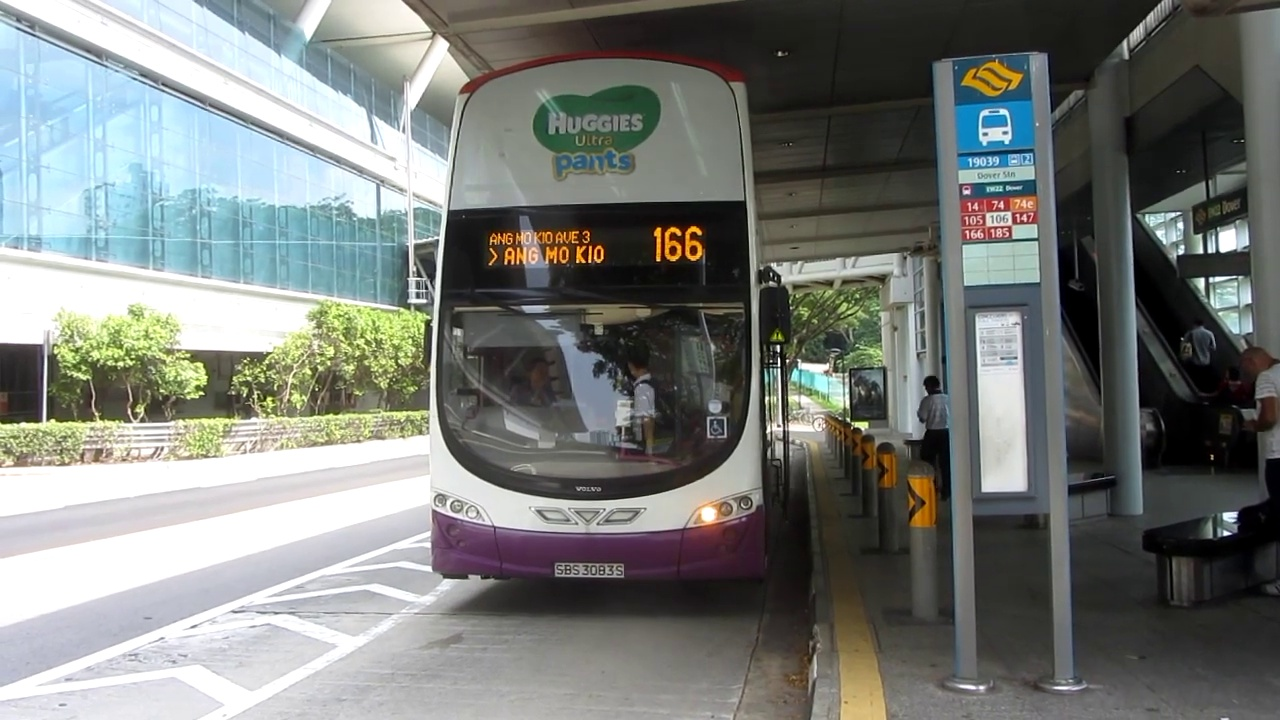bus panel: (482, 223, 711, 269)
